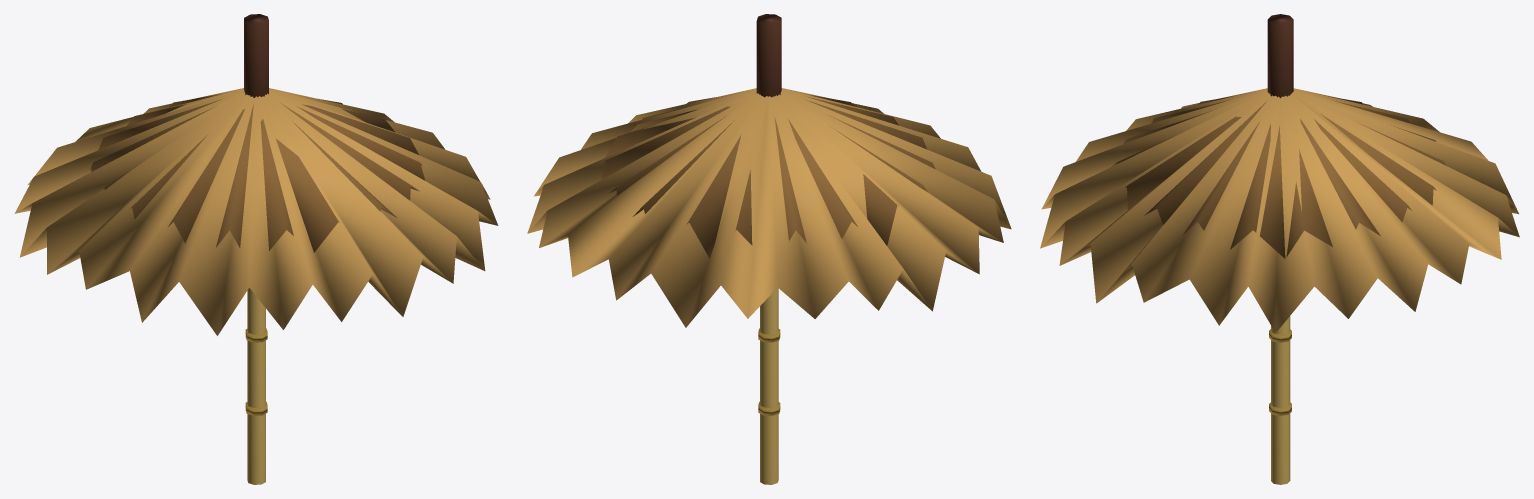
Rendered from lava_parasol.glb.
3 views of the same model, side by side, from view 1: azimuth 30°, elevation 25°; view 2: azimuth 150°, elevation 25°; view 3: azimuth 270°, elevation 25° (orthographic).
Visible parts, largest first — view 1: Parasol; view 2: Parasol; view 3: Parasol.
Part boxes in pixels (x1=…): Parasol: x1=14, y1=14, x2=498, y2=484; Parasol: x1=527, y1=14, x2=1011, y2=484; Parasol: x1=1040, y1=14, x2=1519, y2=484.
Bounding box in the file's own units: 3 × 3.15 × 2.97.
